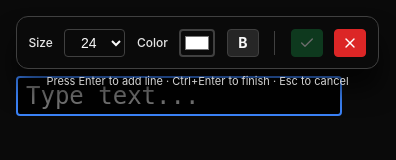
Test: TextSpriteEditor › finish button enabled after typing text
Type "Hello" into the field with placeholder "Type text..." at (179, 96), box [16,76,342,116]
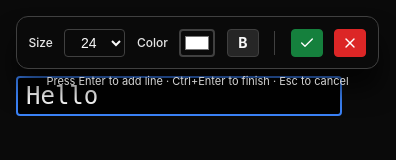
Expected: the button titled "Finish" is enabled, [291,28,323,56]
